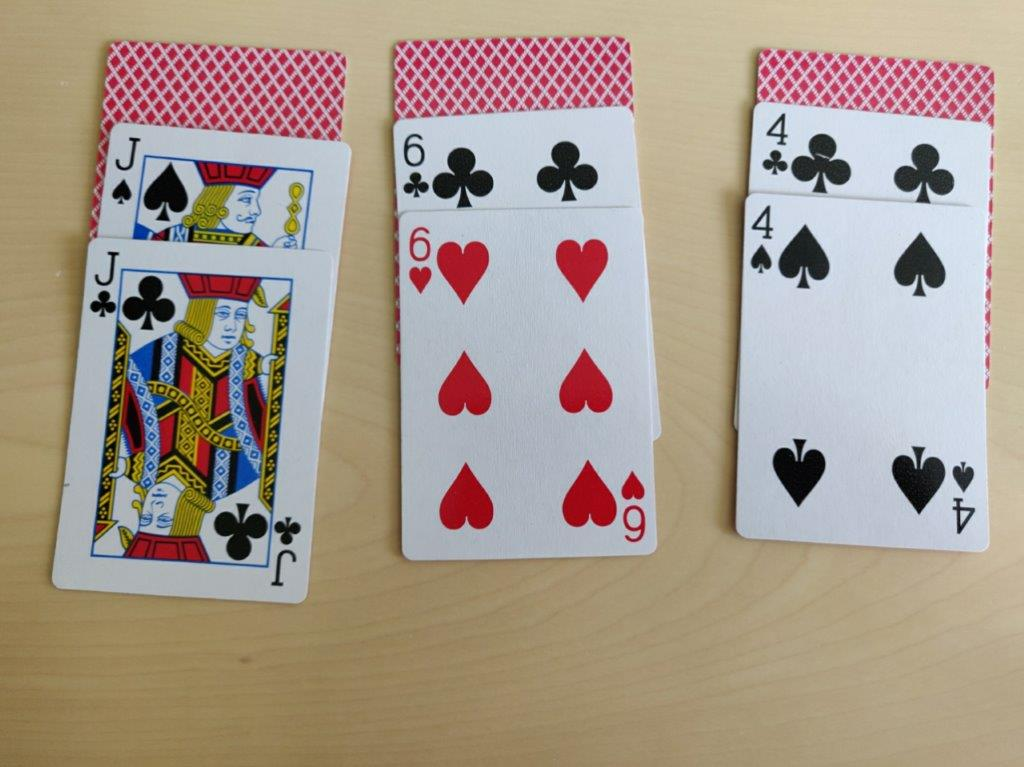4C: (761, 105, 790, 180)
4S: (749, 205, 778, 284)
6C: (399, 126, 431, 203)
6H: (405, 217, 435, 297)
BACK: (104, 46, 344, 137), (391, 36, 639, 105), (757, 43, 998, 113)
JC: (87, 246, 123, 320)
JS: (102, 132, 143, 218)
